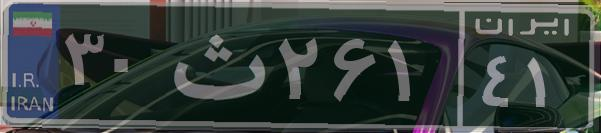0: (110, 28, 158, 105)
1: (385, 28, 445, 110), (525, 38, 570, 115)
2: (273, 28, 330, 110)
3: (57, 26, 110, 107)
4: (475, 38, 525, 113)
6: (330, 28, 385, 110)
ث: (158, 15, 273, 115)
